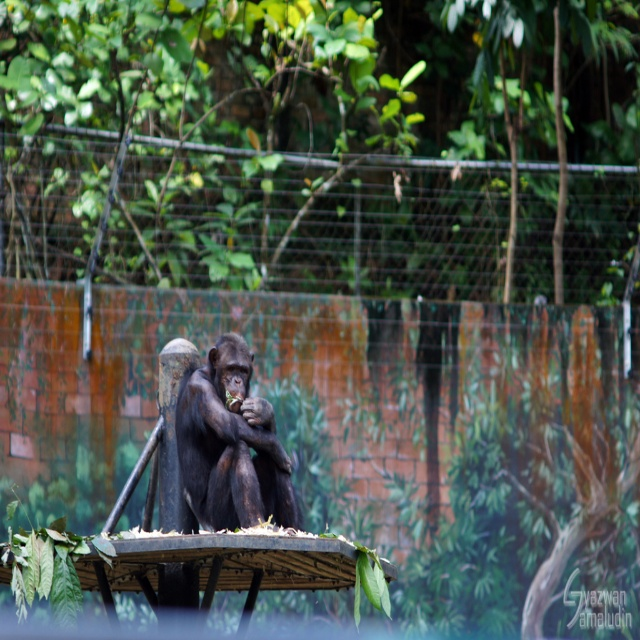Monkey: (148, 338, 298, 554)
